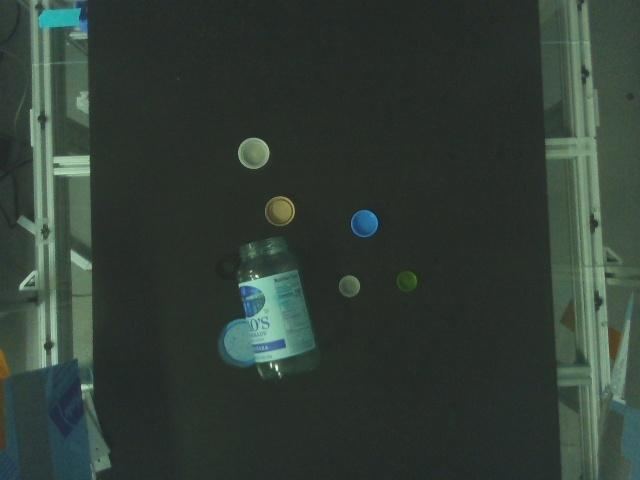glass: (231, 232, 326, 383)
metal: (213, 314, 257, 372)
plastic: (262, 193, 298, 229), (236, 136, 272, 171), (348, 208, 380, 239), (394, 268, 420, 295), (213, 256, 240, 282), (337, 273, 362, 299)
